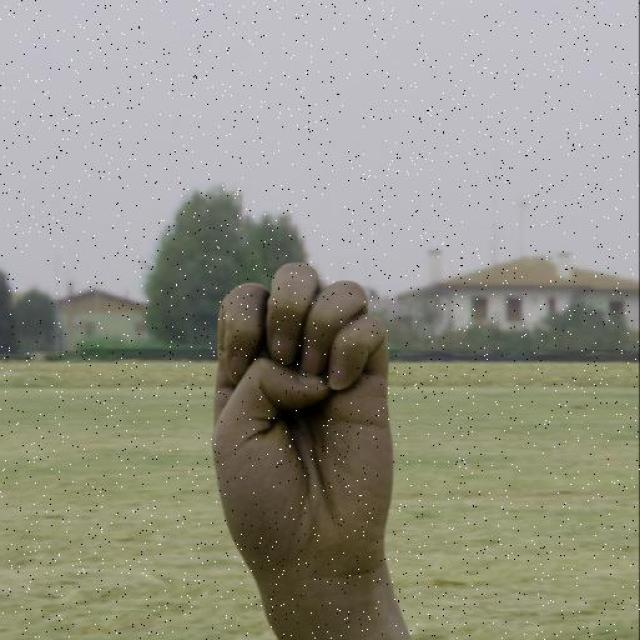E: (210, 258, 400, 574)
